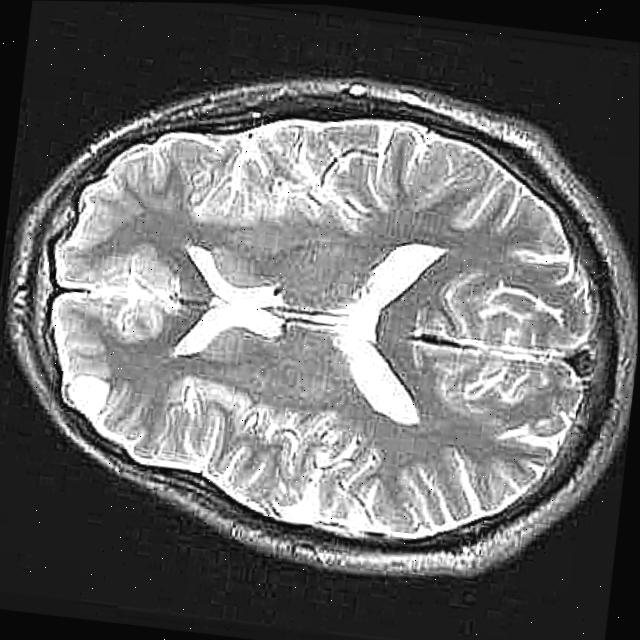NoTumor: (0, 32, 640, 606)
